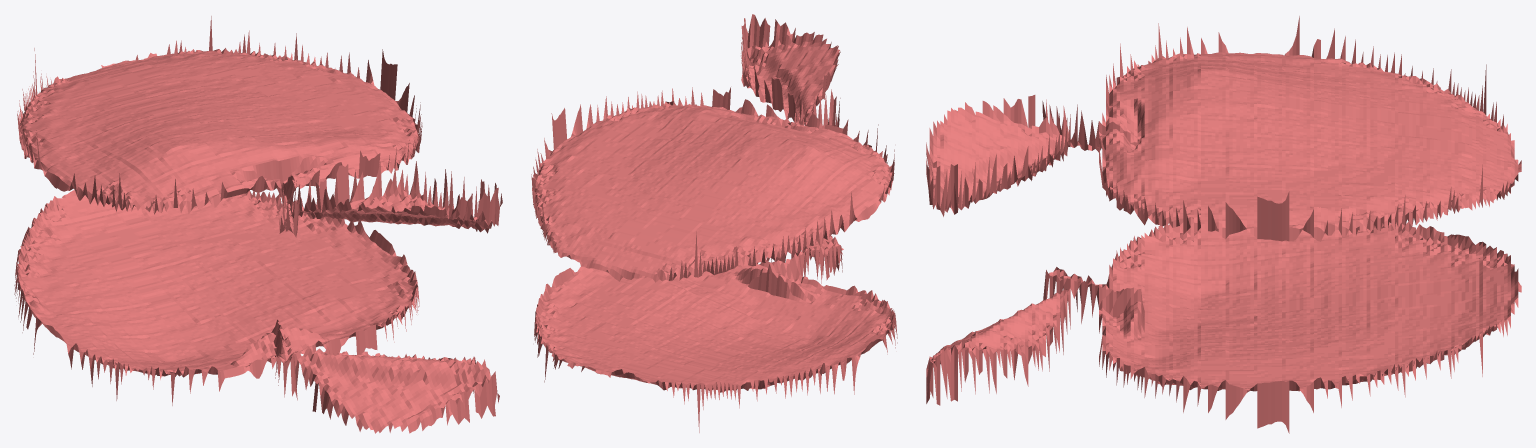
3 renders of one model, left to right at view 1: azimuth 30°, elevation 25°; view 2: azimuth 150°, elevation 25°; view 3: azimuth 270°, elevation 25°, orthographic. The views are drawn at different scales.
Visible parts, largest first — view 1: DepthObjectOutput.001, DepthObjectOutput; view 2: DepthObjectOutput, DepthObjectOutput.001; view 3: DepthObjectOutput, DepthObjectOutput.001.
Boxes of the visible parts, bbox=[...] form: DepthObjectOutput.001: bbox=[14, 190, 499, 433]; DepthObjectOutput: bbox=[17, 16, 502, 237]; DepthObjectOutput: bbox=[531, 14, 894, 282]; DepthObjectOutput.001: bbox=[534, 236, 897, 432]; DepthObjectOutput: bbox=[926, 16, 1521, 241]; DepthObjectOutput.001: bbox=[926, 222, 1521, 433].
Size of the model in its own units: 120 by 76.5 by 169.
